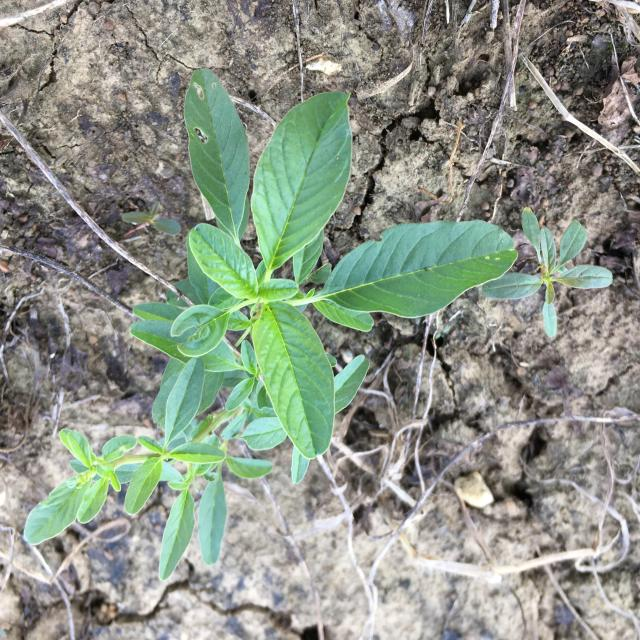Waterhemp: (24, 68, 519, 582), (482, 206, 613, 337), (122, 201, 182, 236)
